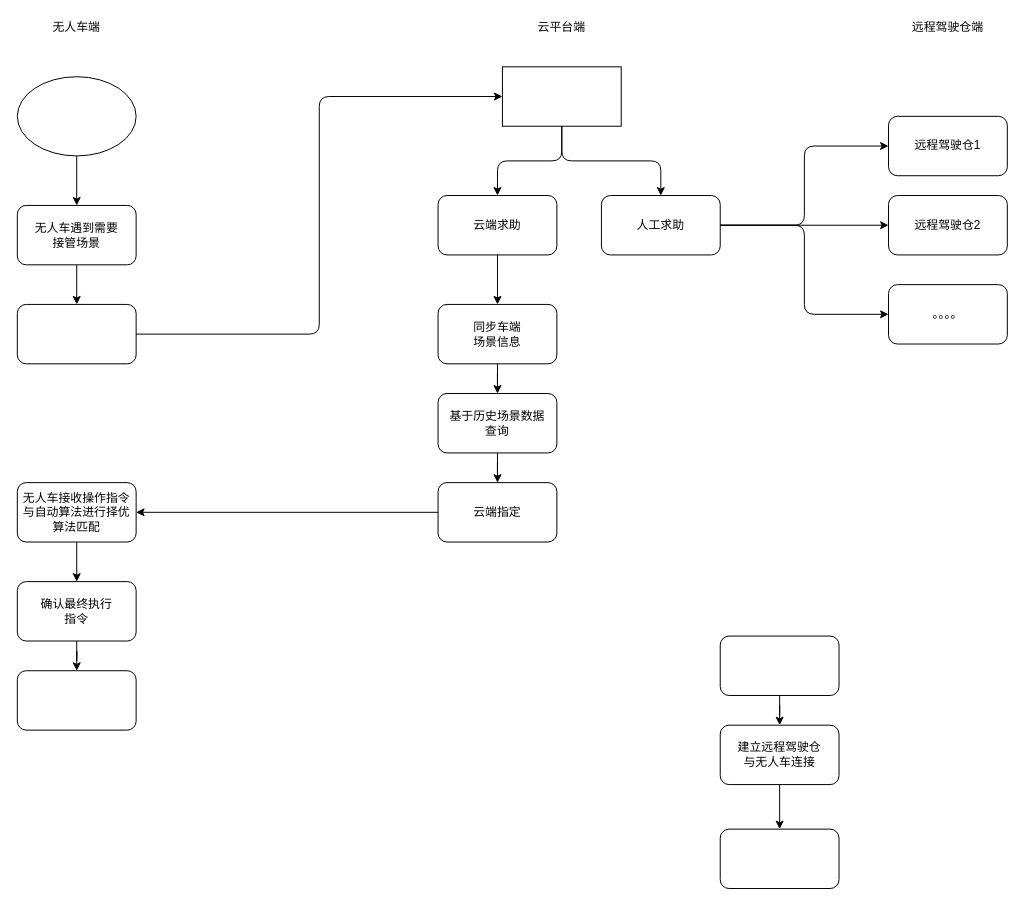
Image size: 1025x906. Some labels were removed from this diagram. The shapes that lost their labels are listed below. From the top down, each one's centre as x and y in pixels, then its label:
At (x=76, y=116): "开始".
At (x=561, y=96): "远程驾驶云平台".
At (x=76, y=333): "发起需要接管 任务申请".
At (x=779, y=665): "基于驾驶员 工作状态 身体状态信息 进行从优匹配".
At (x=76, y=700): "完成接管操作".
At (x=779, y=858): "驾驶仓发送 无人车操作指令".
